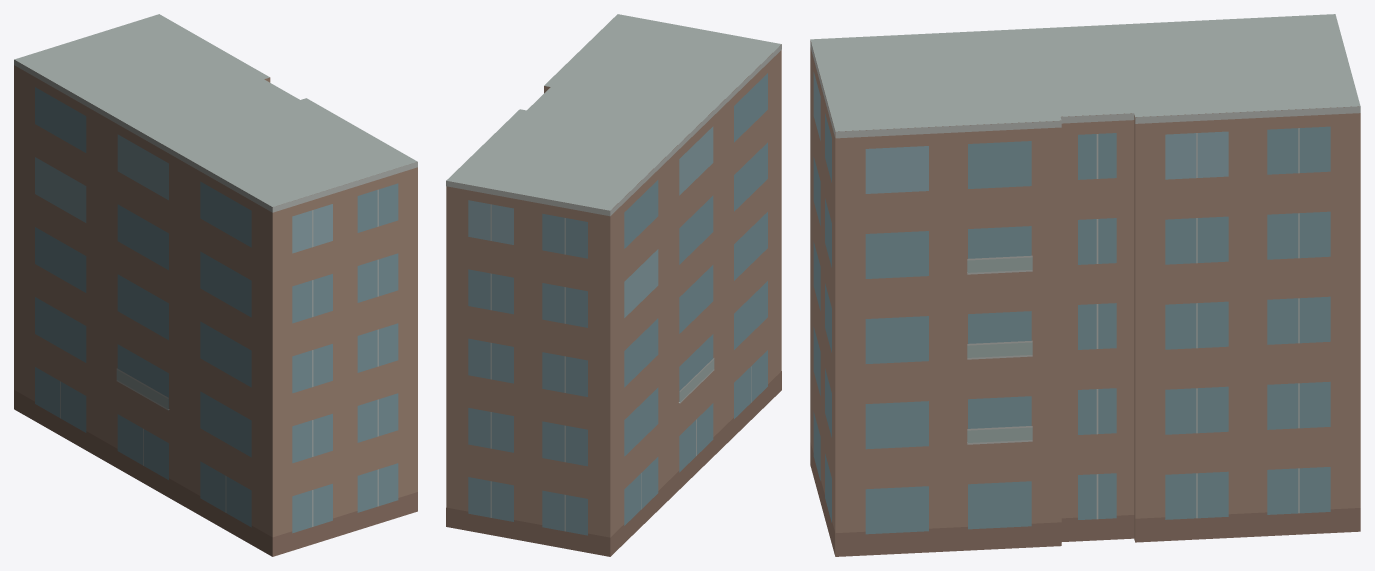
The model's file is survey-upis-32614583.glb.
3 views of the same model, side by side, from view 1: azimuth 30°, elevation 25°; view 2: azimuth 150°, elevation 25°; view 3: azimuth 270°, elevation 25° (orthographic). The views are drawn at different scales.
Visible parts, largest first — view 1: survey-upis-32614583.tmp; view 2: survey-upis-32614583.tmp; view 3: survey-upis-32614583.tmp.
Part boxes in pixels (bbox=[...]): survey-upis-32614583.tmp: bbox=[14, 14, 417, 556]; survey-upis-32614583.tmp: bbox=[446, 14, 781, 556]; survey-upis-32614583.tmp: bbox=[810, 14, 1360, 556].
Bounding box in the file's own units: 9.05 × 15.25 × 17.89.
